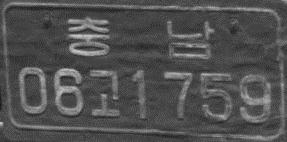0: (17, 65, 47, 115)
1: (125, 68, 157, 119)
5: (200, 72, 233, 124)
6: (52, 67, 85, 117)
7: (163, 70, 192, 120)
9: (239, 74, 271, 124)
고: (88, 68, 120, 117)
충남_D: (66, 15, 214, 59)
